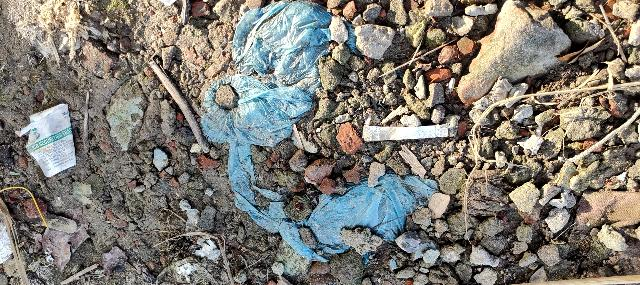polythene: (216, 1, 452, 258)
